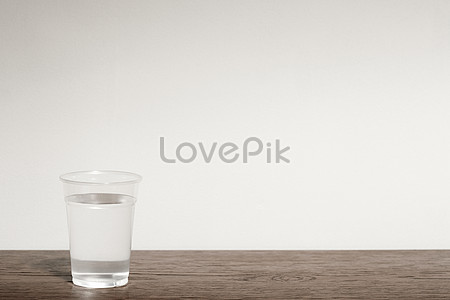plastic_glass: (54, 168, 149, 295)
